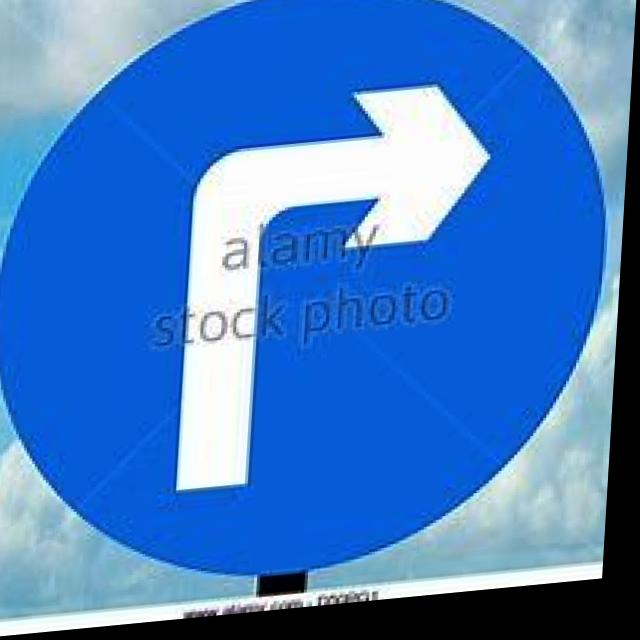COMPULSARY_TURN_RIGHT_AHEAD: (0, 0, 627, 599)
